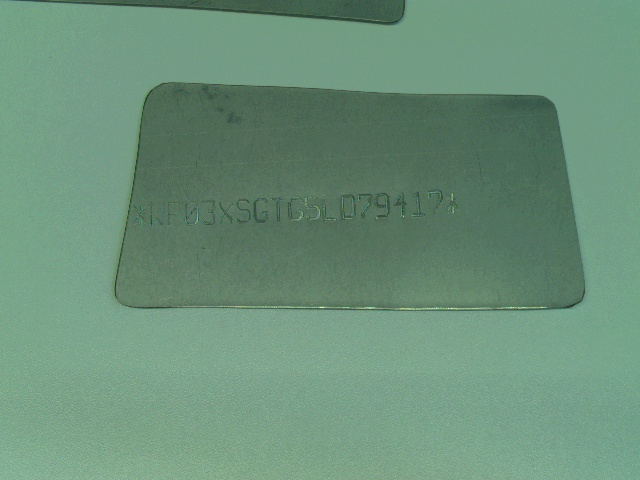0: (183, 201, 201, 226)
1: (411, 190, 425, 217)
3: (201, 199, 217, 225)
4: (394, 191, 409, 217)
5: (304, 195, 322, 222)
7: (426, 189, 444, 216), (357, 192, 372, 220)
9: (374, 192, 392, 220)
d: (340, 193, 356, 220)
f: (166, 201, 181, 226)
g: (253, 196, 270, 224), (287, 196, 305, 222)
l: (321, 195, 339, 222)
s: (235, 198, 251, 224)
t: (270, 196, 286, 222)
w: (148, 201, 166, 226)
x: (217, 199, 235, 223)
